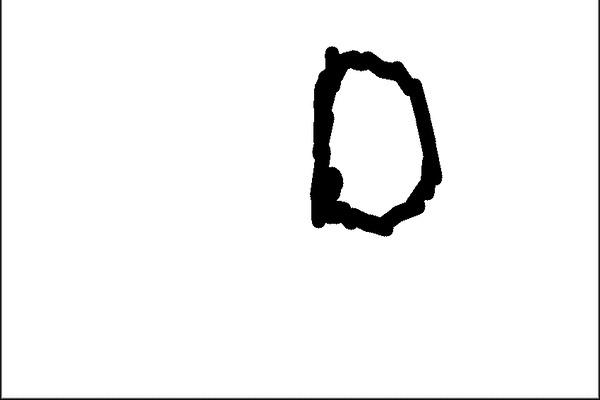D: (303, 40, 449, 242)
